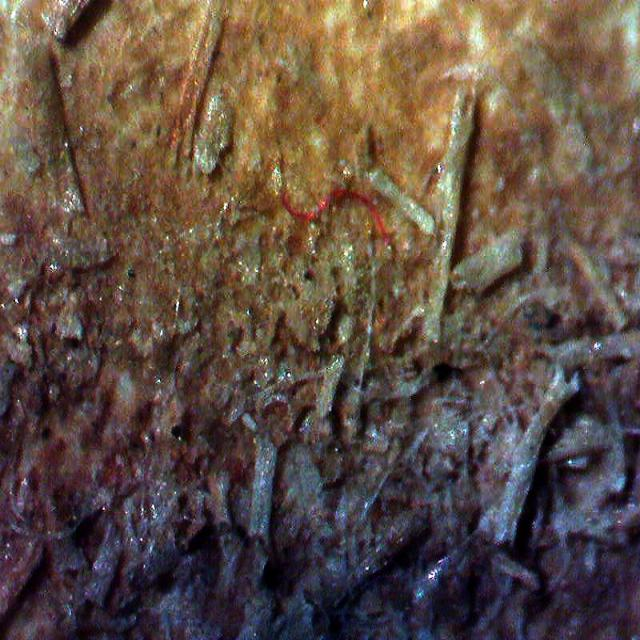microplastic: (279, 185, 391, 247)
